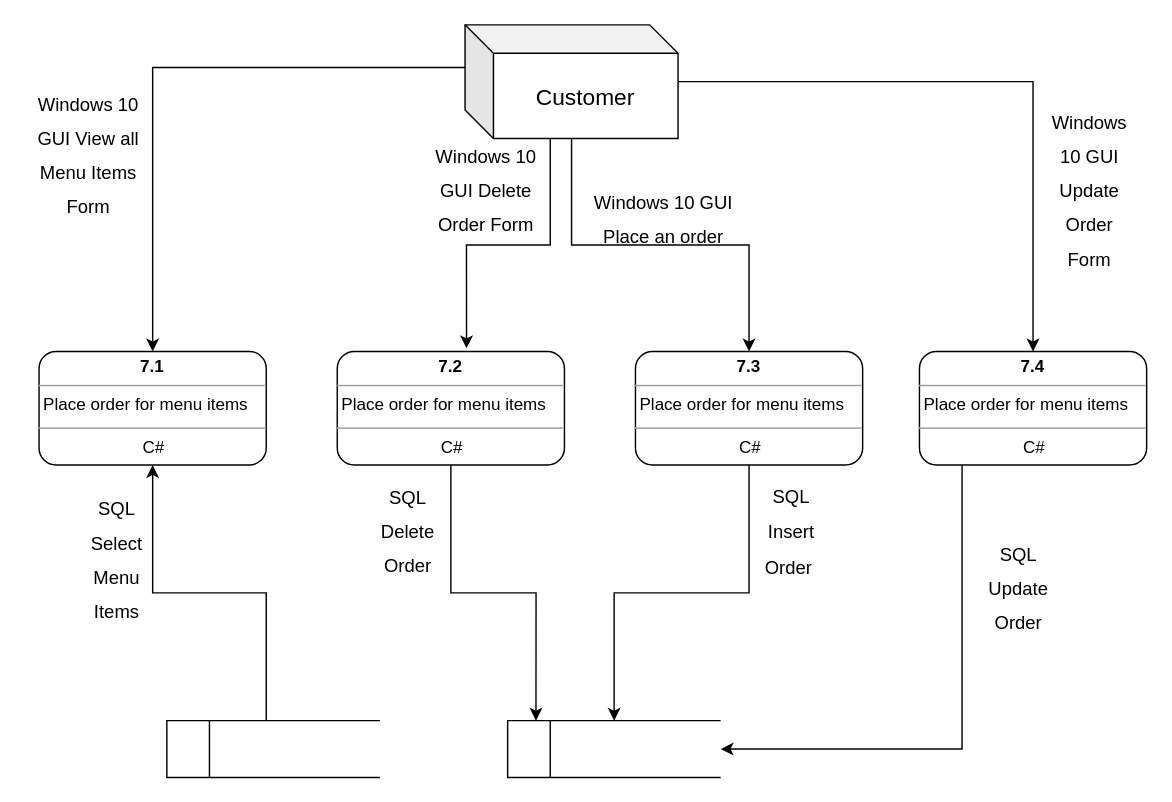
Some shapes in this 1172 by 802 pixel diagram are drawn without their labels. The centre of each missing label's shape, as x and y in pixels:
"D1 Menu Item" belongs at point 272,748.
"D2 Order" belongs at point 613,748.
